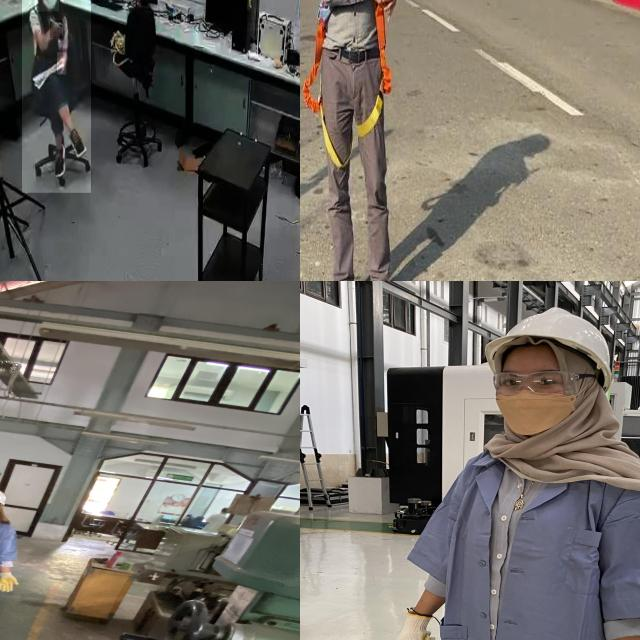Harness: (303, 20, 345, 168), (357, 5, 393, 138)
face_mask: (491, 368, 576, 434), (34, 0, 59, 12)
glasses: (486, 367, 599, 397)
hand_glove: (384, 609, 442, 640), (0, 574, 23, 594)
hand_noglove: (50, 20, 63, 39), (57, 52, 67, 76)
head_helmet: (484, 305, 614, 375)
person: (386, 299, 640, 640), (22, 0, 91, 193)
shoes: (69, 125, 88, 162), (52, 140, 69, 181)
